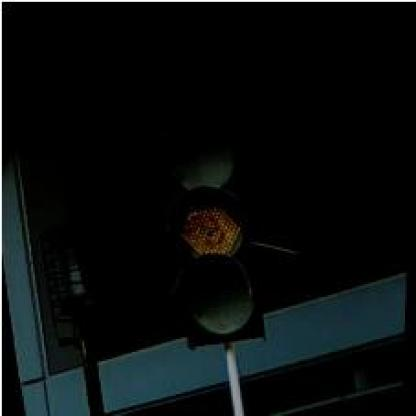yellow: (138, 99, 280, 352)
